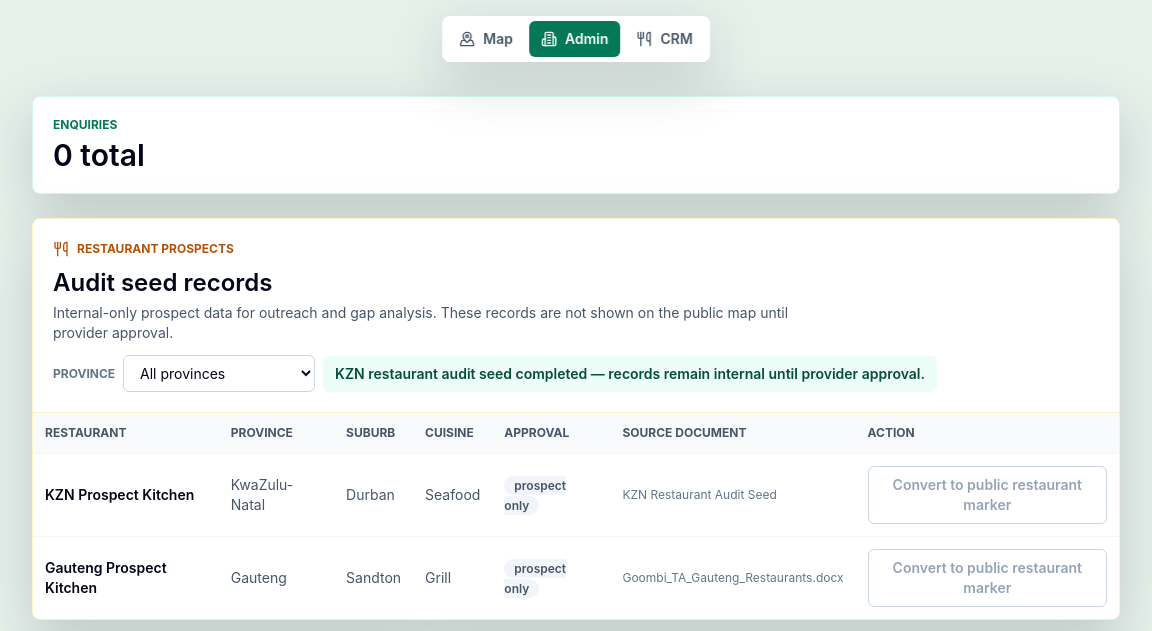
restaurant prospect province filter shows KwaZulu-Natal records
This screenshot has width=1152, height=631.
Check: the text "KZN Prospect Kitchen" is shown, box [33, 454, 219, 536]
Select "KwaZulu-Natal" in the dropdown labelled "Province": [219, 374] box [123, 355, 315, 392]
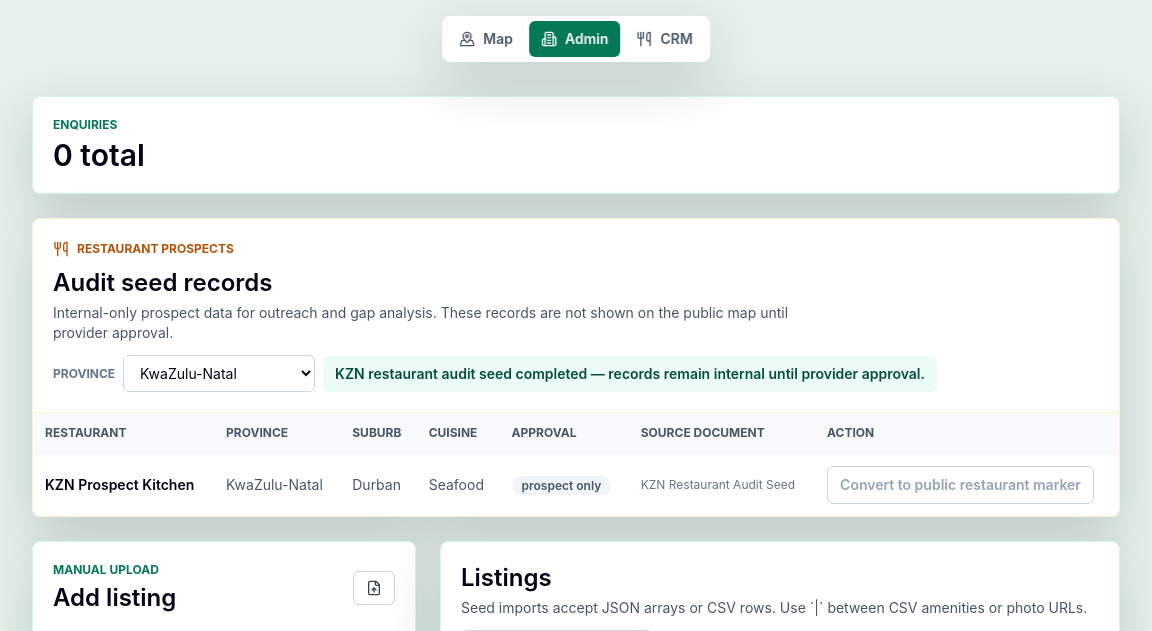
Check: the text "KZN Prospect Kitchen" is shown, box [33, 454, 214, 516]
Check: the text "Gauteng Prospect Kitchen" is gone
